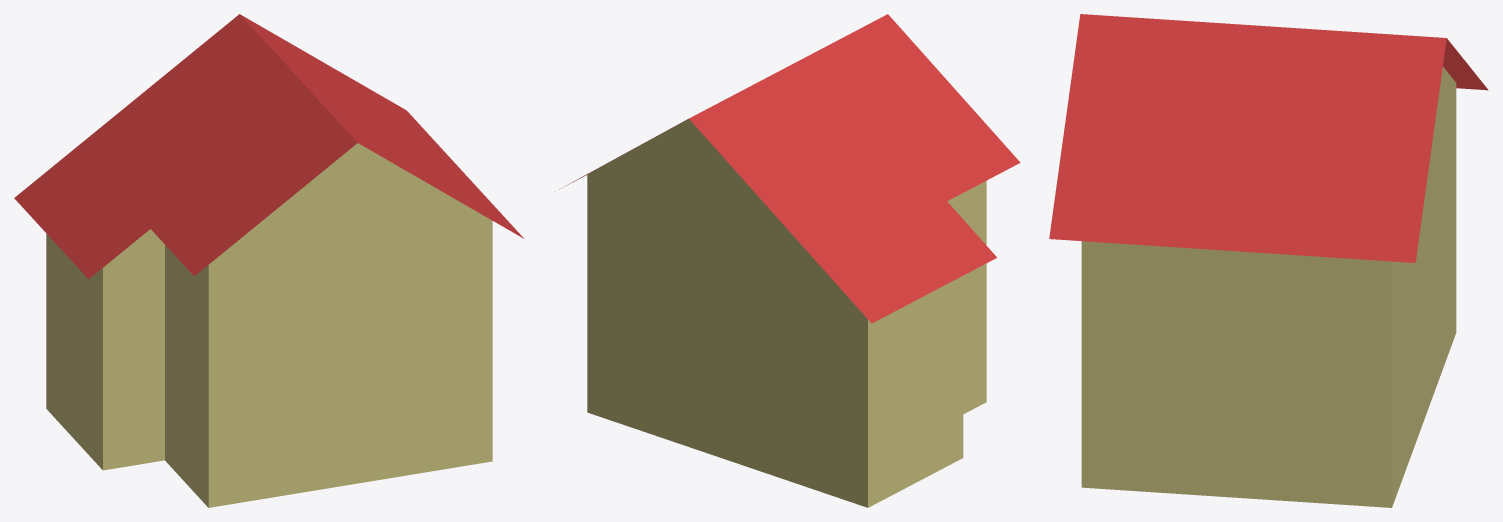
3 renders of one model, left to right at view 1: azimuth 30°, elevation 25°; view 2: azimuth 150°, elevation 25°; view 3: azimuth 270°, elevation 25°, orthographic. The views are drawn at different scales.
Bounding box in the file's own units: 13.42 × 11.63 × 11.64.
